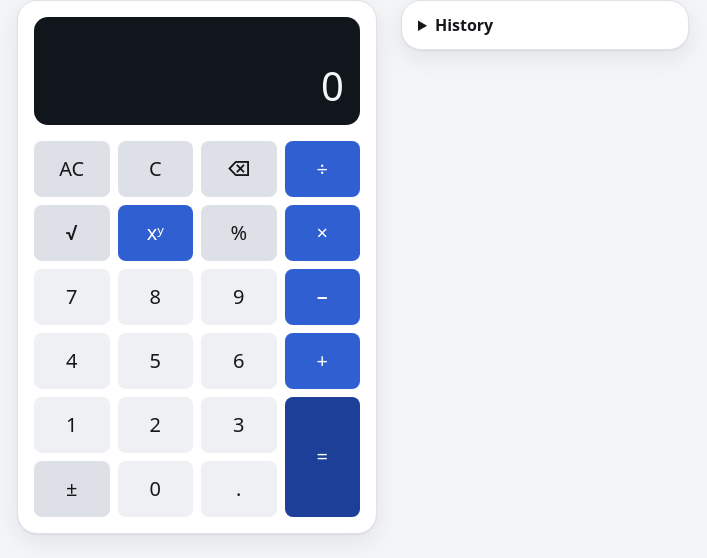
Test: UC-UI-01 extensions › E6/E7: a problem with a request id shows the fixed copy in the one alert region
Click the button "1".
click(72, 425)  # box [34, 397, 110, 453]
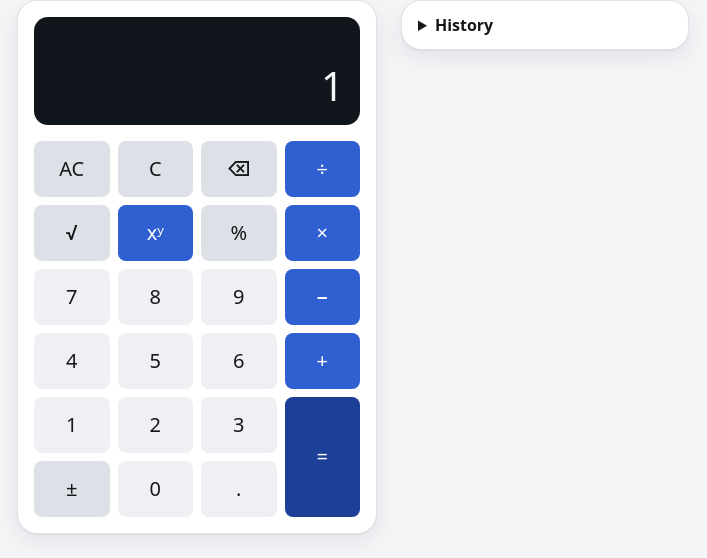
Click the button named "divide".
click(322, 169)  # box [284, 141, 360, 197]
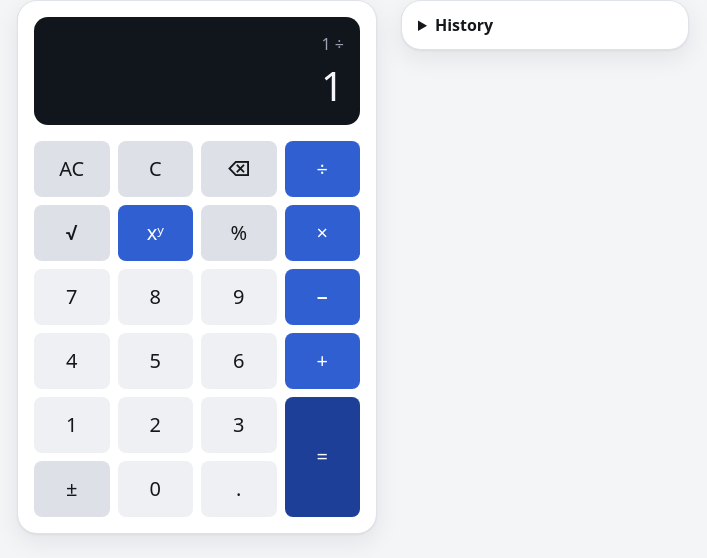
Click the button "0".
click(155, 489)  # box [118, 461, 193, 517]
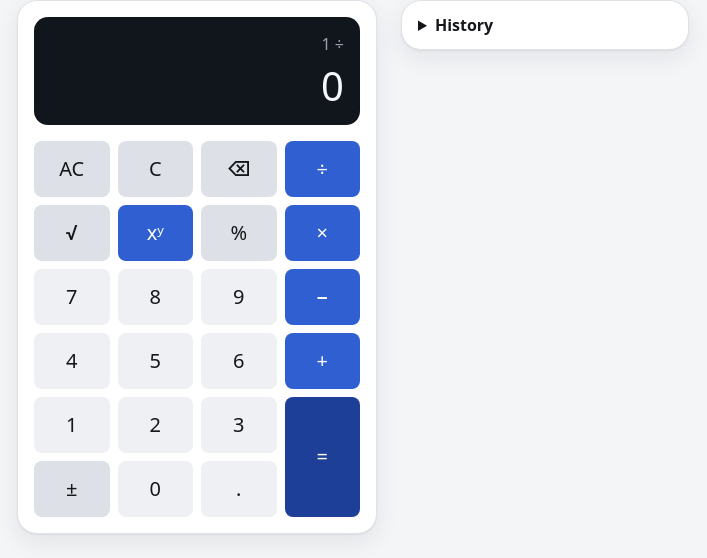
Click the button named "equals".
click(322, 457)  # box [284, 397, 360, 517]
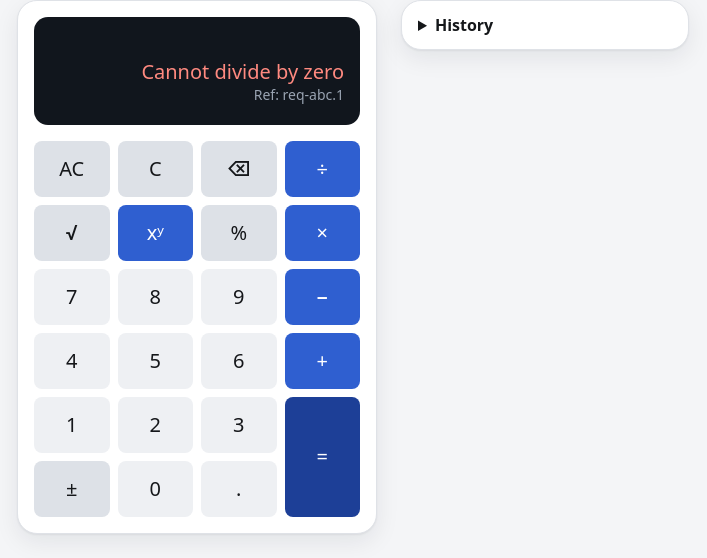
Expected: the message does not show "server title", [141, 58, 344, 104]
Result: the number of messages is 1 at [141, 58, 344, 104]
Result: the message shows "Cannot divide by zero" at [141, 58, 344, 85]
